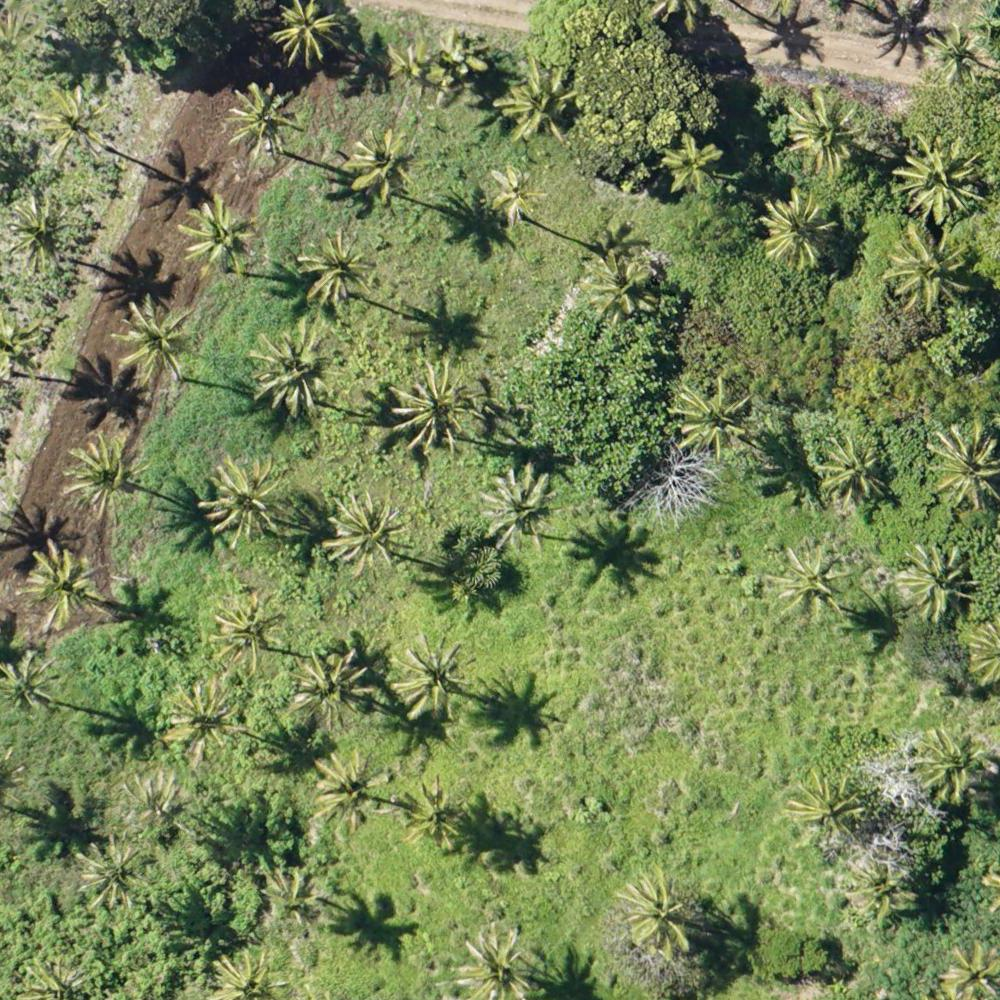Palm: (390, 362, 475, 455), (899, 134, 986, 222), (391, 634, 473, 724), (614, 867, 701, 950), (208, 457, 288, 547), (293, 645, 376, 731), (64, 434, 140, 527), (887, 226, 971, 309), (252, 329, 334, 414), (480, 464, 558, 552), (785, 93, 867, 176), (923, 423, 1000, 510), (326, 493, 408, 574), (166, 674, 243, 759), (497, 59, 582, 136), (896, 544, 981, 621), (673, 374, 752, 456), (116, 300, 189, 385), (23, 543, 102, 621), (772, 548, 851, 626), (298, 229, 371, 312), (911, 726, 990, 802), (783, 769, 864, 842), (448, 931, 536, 997), (34, 89, 112, 163), (180, 199, 255, 275), (312, 754, 390, 827), (226, 83, 297, 162), (763, 189, 834, 266), (3, 196, 72, 275), (70, 841, 146, 911), (346, 129, 414, 207), (212, 595, 282, 669), (580, 252, 657, 318), (923, 27, 995, 93), (402, 777, 467, 849), (1, 647, 65, 719), (271, 2, 342, 66), (822, 438, 887, 505), (262, 868, 331, 931), (850, 862, 917, 926), (121, 777, 190, 832), (663, 133, 726, 189), (485, 165, 543, 223), (945, 938, 999, 1000), (385, 38, 429, 90)
